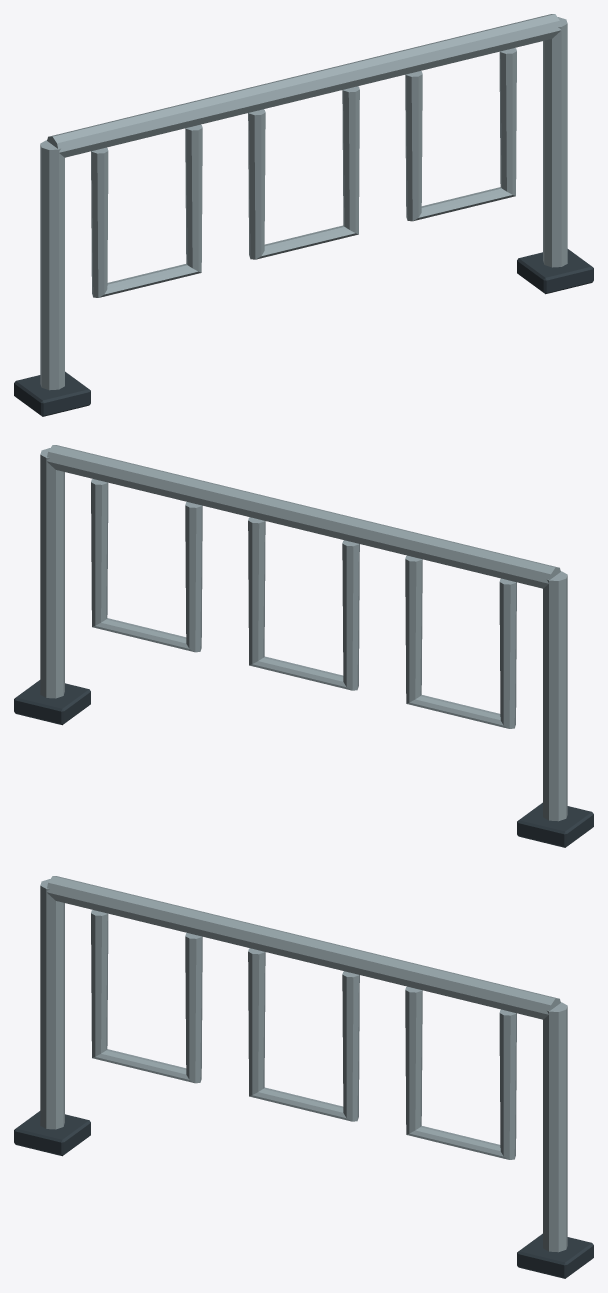
The model's file is Bike_Rack_Straight.glb.
The picture shows the model from 3 angles, top to bottom: view 1: azimuth 30°, elevation 25°; view 2: azimuth 150°, elevation 25°; view 3: azimuth 330°, elevation 25°; orthographic projection.
Visible parts, largest first — view 1: Bike_Rack_Straight; view 2: Bike_Rack_Straight; view 3: Bike_Rack_Straight.
Boxes of the visible parts, x1,y1,x2,y2 form: Bike_Rack_Straight: (14,14,593,416); Bike_Rack_Straight: (14,445,593,847); Bike_Rack_Straight: (14,876,593,1278).
Size of the model in its own units: 1.76 by 0.805 by 0.16.
